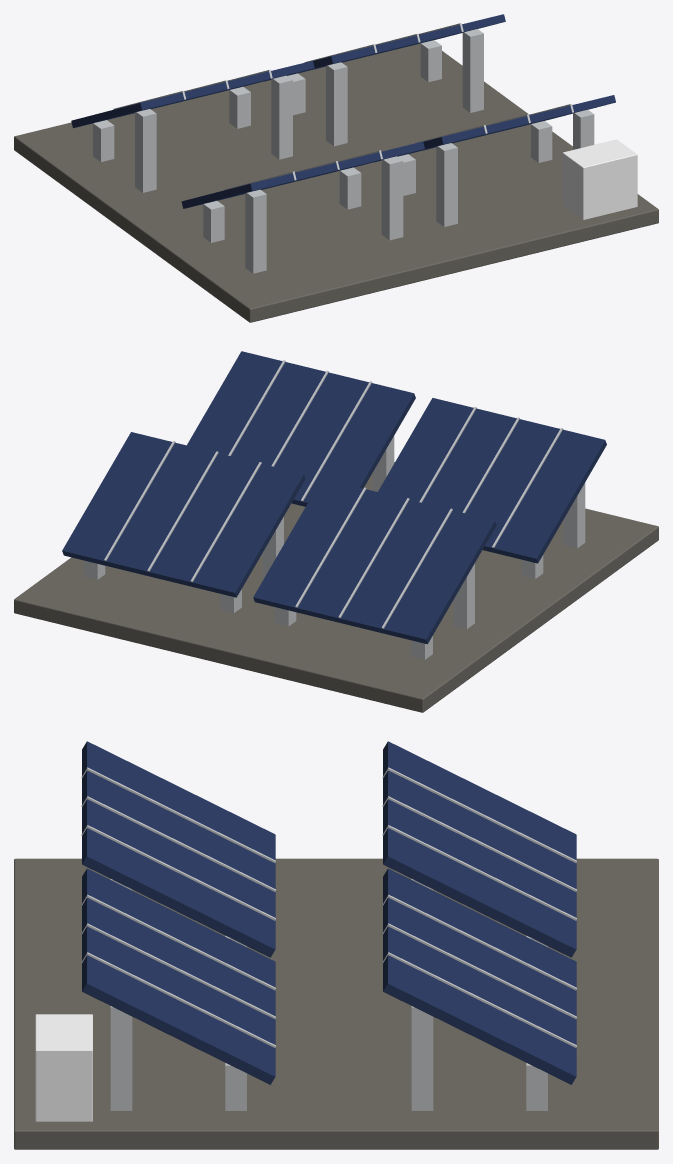
The model's file is gunes.glb.
The picture shows the model from 3 angles, top to bottom: view 1: azimuth 30°, elevation 25°; view 2: azimuth 150°, elevation 25°; view 3: azimuth 270°, elevation 25°; orthographic projection. The views are drawn at different scales.
Parts seen in each view (by area): view 1: P; view 2: P; view 3: P.
Boxes of the visible parts, left/top/right/bottom form: P: left=14, top=14, right=658, bottom=322; P: left=14, top=351, right=658, bottom=712; P: left=14, top=741, right=658, bottom=1149.
Bounding box in the file's own units: 0.9 × 0.2414 × 0.9.
